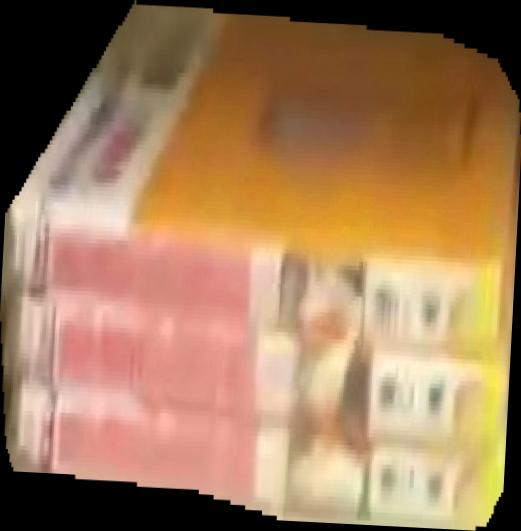flat: (1, 1, 521, 531)
